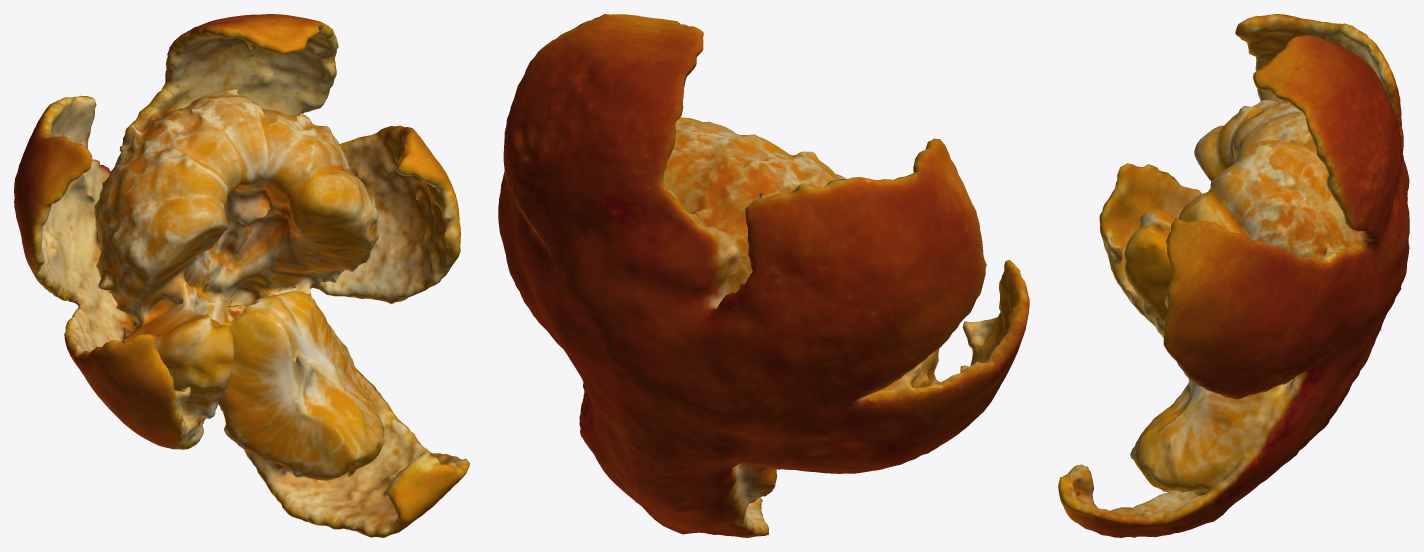
Rendered from citrus.glb.
3 views of the same model, side by side, from view 1: azimuth 30°, elevation 25°; view 2: azimuth 150°, elevation 25°; view 3: azimuth 270°, elevation 25° (orthographic). The views are drawn at different scales.
Parts seen in each view (by area): view 1: MandarinOrange; view 2: MandarinOrange; view 3: MandarinOrange.
Part boxes in pixels (x1,y1,x2,y2): MandarinOrange: (14, 14, 469, 537); MandarinOrange: (498, 14, 1029, 537); MandarinOrange: (1058, 14, 1409, 537).
Size of the model in its own units: 0.0157 by 0.0174 by 0.0119.
1 material, 1 textured.
